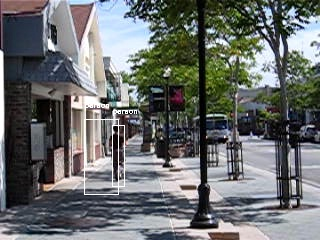person: (108, 125, 127, 182), (107, 125, 126, 182), (109, 125, 128, 182), (108, 124, 127, 181), (108, 126, 127, 183)
target_negative: (27, 75, 247, 209), (196, 36, 316, 213), (184, 98, 288, 229), (118, 107, 173, 183), (61, 177, 81, 224)
